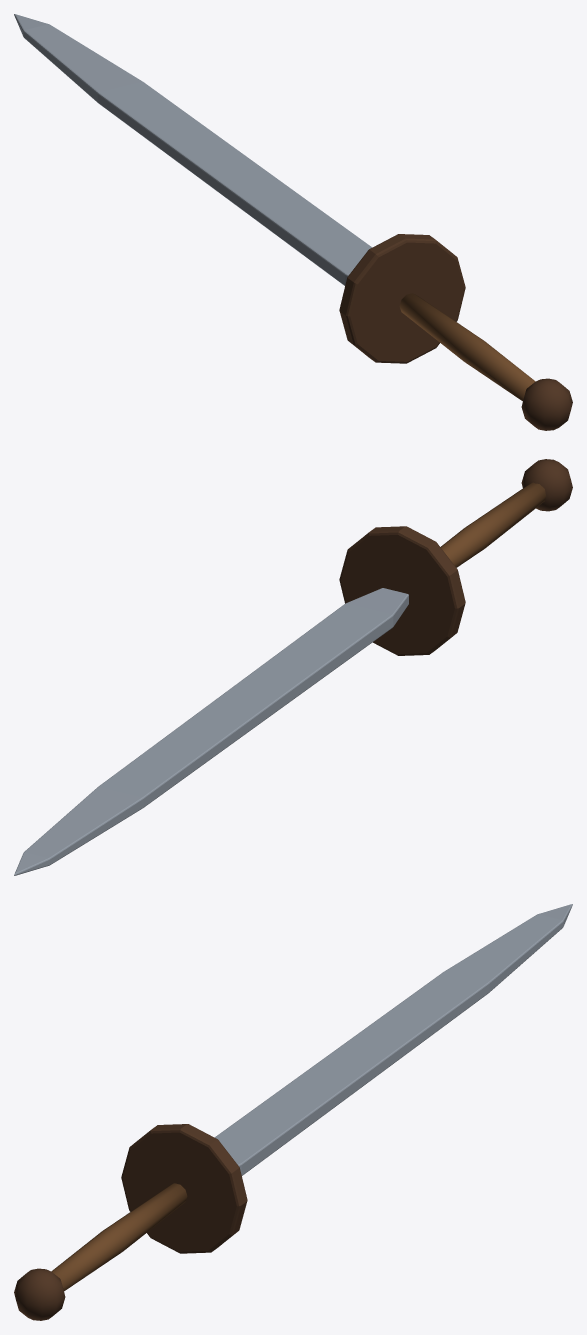
File: greatsword_01_broad_iron.glb
3 renders of one model, top to bottom at view 1: azimuth 30°, elevation 25°; view 2: azimuth 150°, elevation 25°; view 3: azimuth 330°, elevation 25°, orthographic.
Parts seen in each view (by area): view 1: 01_broad_iron_Blade, 01_broad_iron_Guard, 01_broad_iron_Grip, 01_broad_iron_Pommel; view 2: 01_broad_iron_Blade, 01_broad_iron_Guard, 01_broad_iron_Grip, 01_broad_iron_Pommel; view 3: 01_broad_iron_Blade, 01_broad_iron_Guard, 01_broad_iron_Grip, 01_broad_iron_Pommel.
Boxes of the visible parts, x1=… form: 01_broad_iron_Blade: x1=14, y1=14, x2=371, y2=285; 01_broad_iron_Guard: x1=339, y1=234, x2=465, y2=363; 01_broad_iron_Grip: x1=399, y1=293, x2=535, y2=401; 01_broad_iron_Pommel: x1=521, y1=378, x2=572, y2=430; 01_broad_iron_Blade: x1=14, y1=588, x2=408, y2=875; 01_broad_iron_Guard: x1=339, y1=526, x2=465, y2=655; 01_broad_iron_Grip: x1=440, y1=482, x2=545, y2=567; 01_broad_iron_Pommel: x1=521, y1=459, x2=572, y2=511; 01_broad_iron_Blade: x1=215, y1=904, x2=572, y2=1175; 01_broad_iron_Guard: x1=121, y1=1124, x2=247, y2=1253; 01_broad_iron_Grip: x1=51, y1=1183, x2=187, y2=1291; 01_broad_iron_Pommel: x1=14, y1=1268, x2=65, y2=1320.
Size of the model in its own units: 0.1786 by 0.1786 by 1.41.
